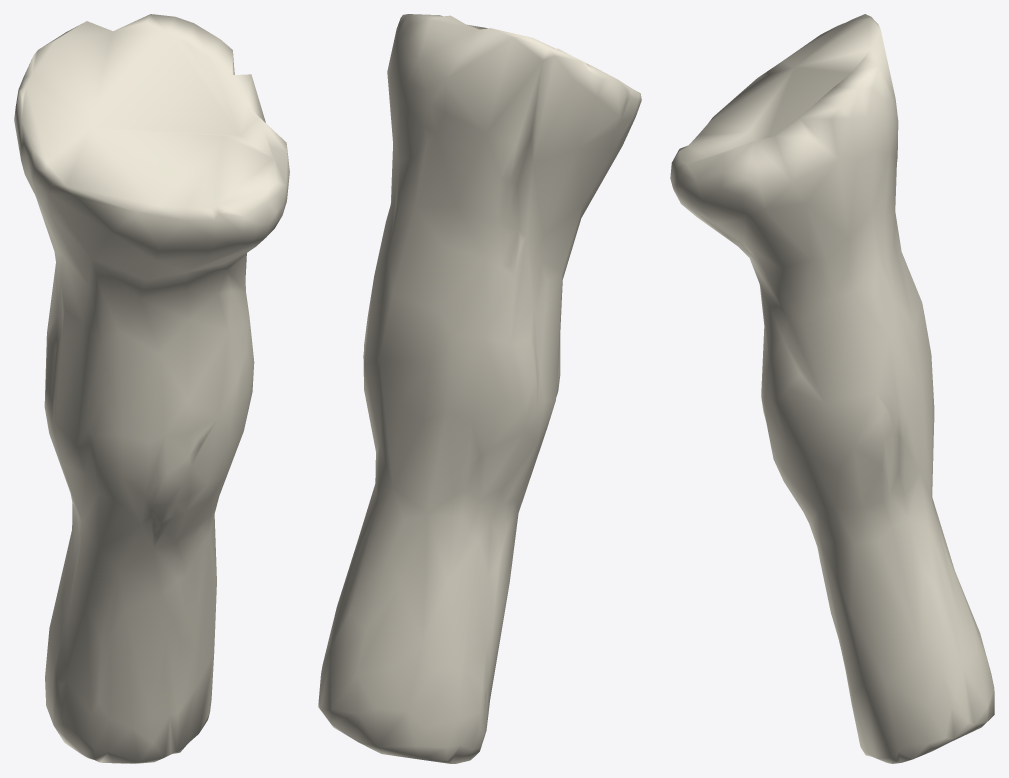
3 renders of one model, left to right at view 1: azimuth 30°, elevation 25°; view 2: azimuth 150°, elevation 25°; view 3: azimuth 270°, elevation 25°, orthographic. The views are drawn at different scales.
Parts seen in each view (by area): view 1: ZA_b580720e8796cb04; view 2: ZA_b580720e8796cb04; view 3: ZA_b580720e8796cb04.
Part boxes in pixels (x1=…): ZA_b580720e8796cb04: x1=14, y1=14, x2=289, y2=763; ZA_b580720e8796cb04: x1=318, y1=14, x2=641, y2=763; ZA_b580720e8796cb04: x1=670, y1=14, x2=994, y2=763.
Bounding box in the file's own units: 0.00362 × 0.0106 × 0.00451.
